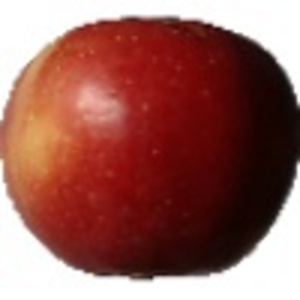maçã braeburn: (1, 12, 299, 278)
